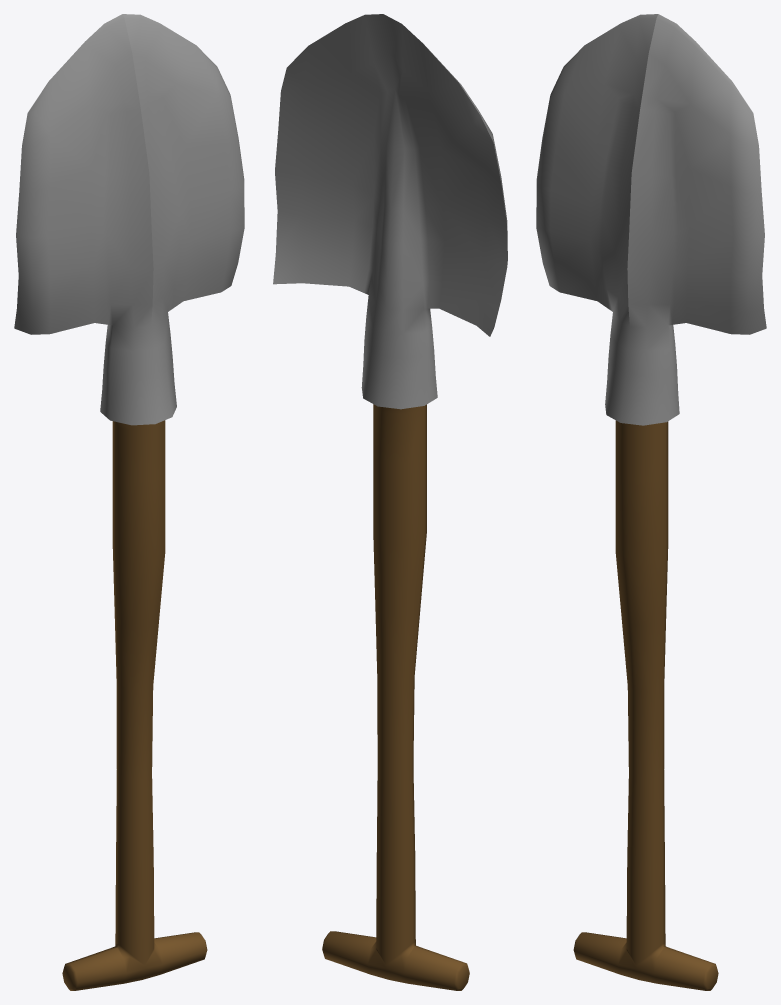
File: Shovel01.FBX
The picture shows the model from 3 angles, left to right: view 1: azimuth 30°, elevation 25°; view 2: azimuth 150°, elevation 25°; view 3: azimuth 330°, elevation 25°; orthographic projection.
Parts seen in each view (by area): view 1: SM_shovel01; view 2: SM_shovel01; view 3: SM_shovel01.
Part boxes in pixels (<box>): SM_shovel01: <box>14,14,244,990</box>; SM_shovel01: <box>273,14,507,990</box>; SM_shovel01: <box>536,14,766,990</box>.
Size of the model in its own units: 31.3 by 125 by 9.16.
